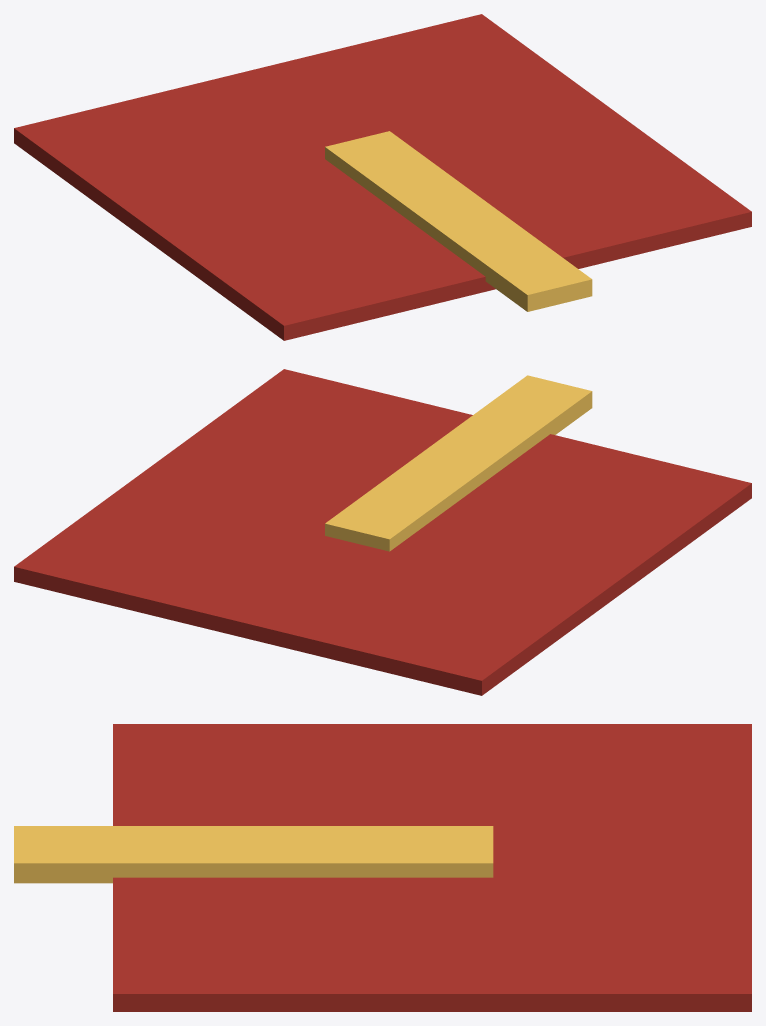
File: marker.breach_point.glb
The picture shows the model from 3 angles, top to bottom: view 1: azimuth 30°, elevation 25°; view 2: azimuth 150°, elevation 25°; view 3: azimuth 270°, elevation 25°; orthographic projection. The views are drawn at different scales.
Parts seen in each view (by area): view 1: marker_disc, facing_tick; view 2: marker_disc, facing_tick; view 3: marker_disc, facing_tick.
Boxes of the visible parts, bbox=[...] form: marker_disc: bbox=[14, 14, 751, 340]; facing_tick: bbox=[325, 131, 592, 311]; marker_disc: bbox=[14, 369, 751, 695]; facing_tick: bbox=[325, 375, 592, 551]; marker_disc: bbox=[113, 724, 751, 1011]; facing_tick: bbox=[14, 826, 493, 883].
Bounding box in the file's own units: 1.3 × 0.0725 × 1.5.
